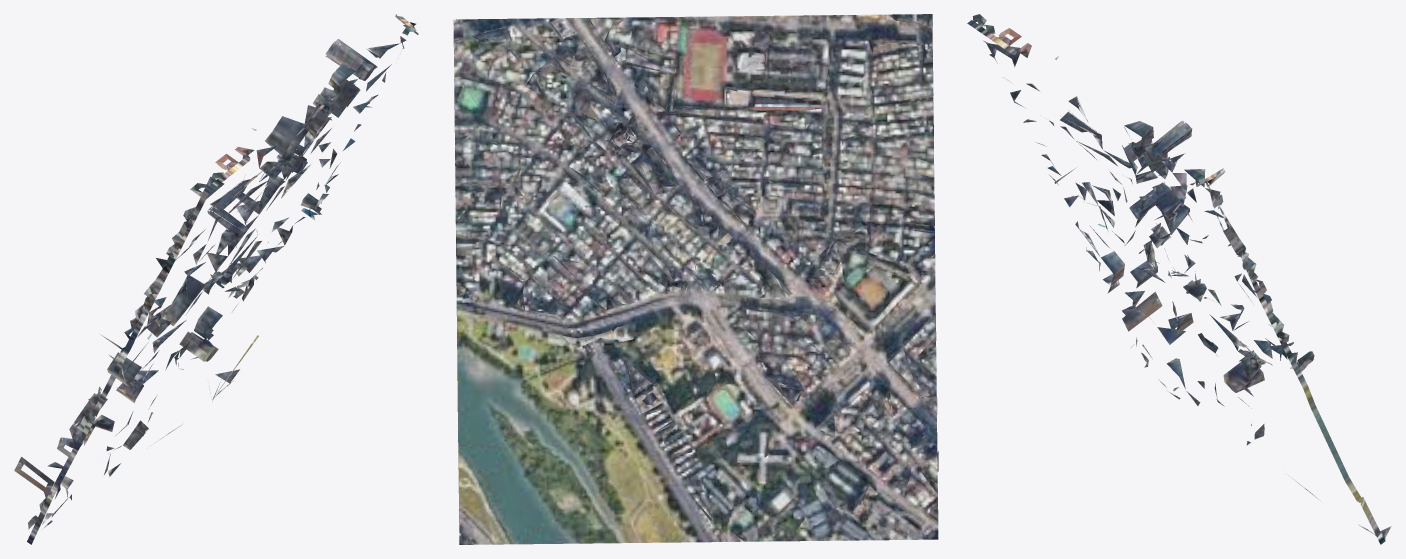
3 renders of one model, left to right at view 1: azimuth 30°, elevation 25°; view 2: azimuth 150°, elevation 25°; view 3: azimuth 270°, elevation 25°, orthographic. The views are drawn at different scales.
Size of the model in its own units: 1247 by 1156 by 1047.
2 materials, 2 textured.
